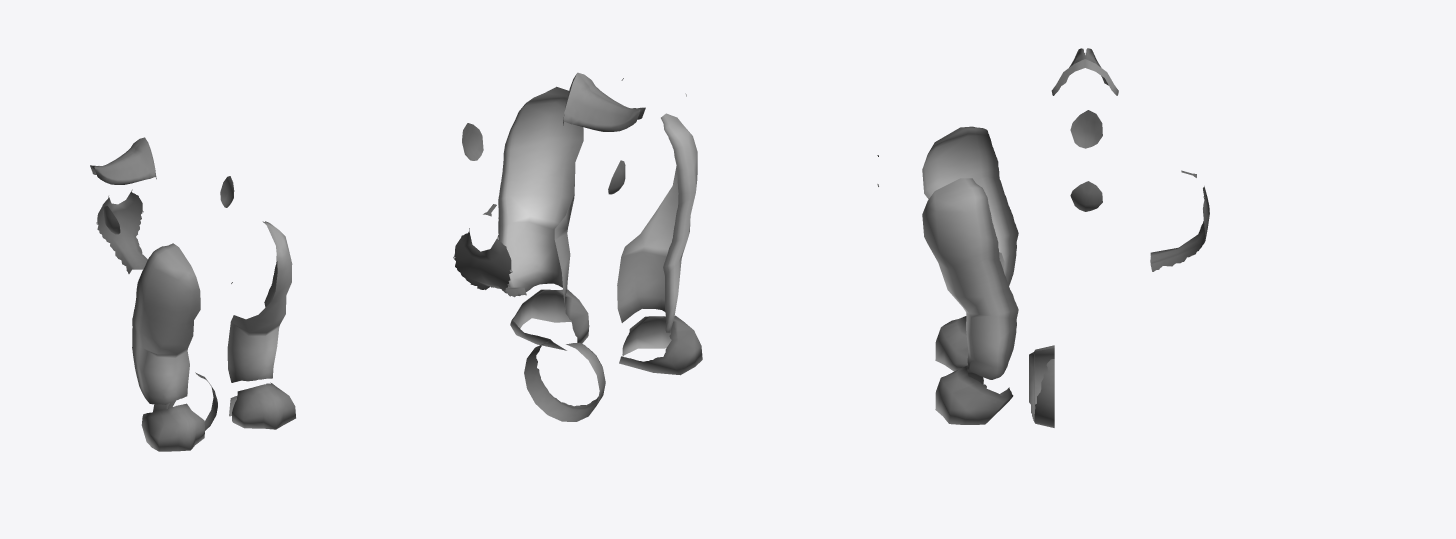
The model's file is huntress.glb.
The picture shows the model from 3 angles, left to right: view 1: azimuth 30°, elevation 25°; view 2: azimuth 150°, elevation 25°; view 3: azimuth 270°, elevation 25°; orthographic projection. The views are drawn at different scales.
Visible parts, largest first — view 1: huntress; view 2: huntress; view 3: huntress.
Boxes of the visible parts, x1,y1,x2,y2 form: huntress: (90, 137, 295, 451); huntress: (453, 72, 702, 421); huntress: (877, 48, 1209, 427).
Bounding box in the file's own units: 1.82 × 3.5 × 4.32.
1 material, 1 textured.
